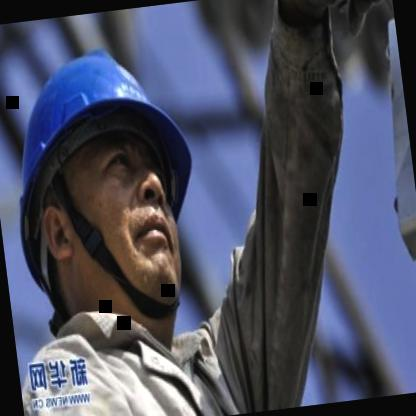helmet: (0, 11, 221, 366)
